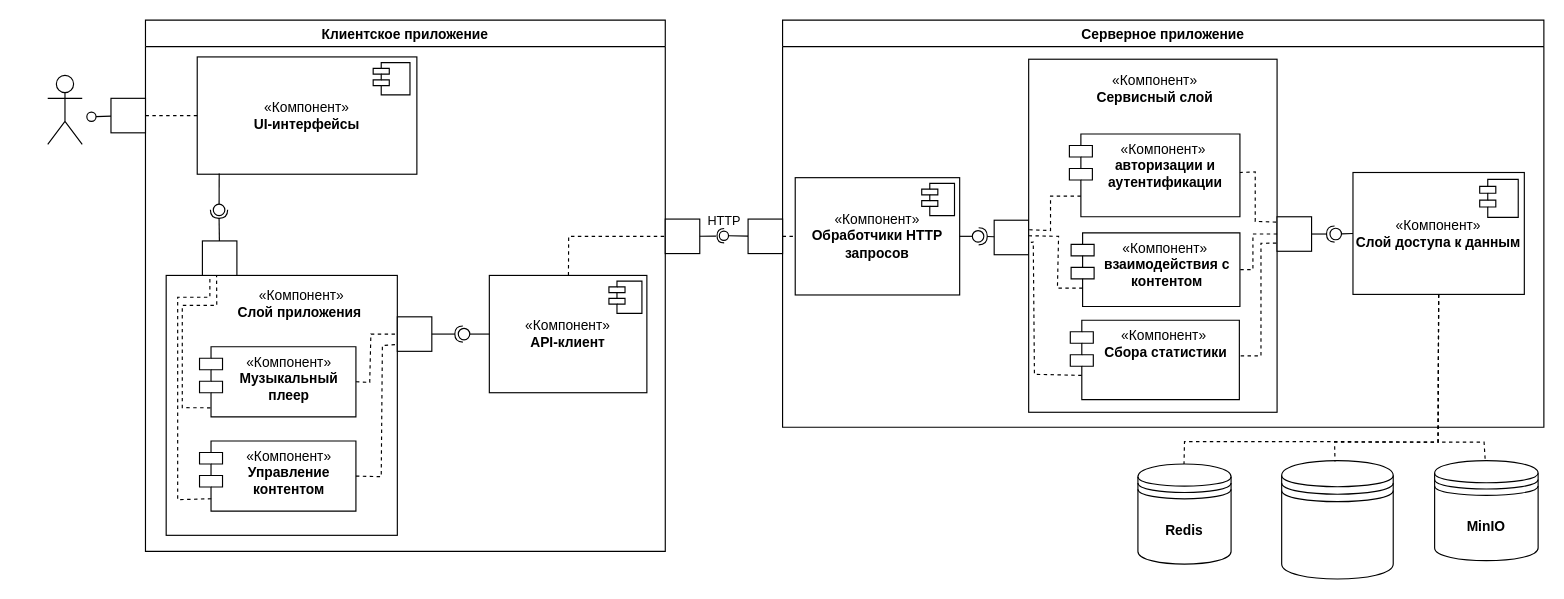
This 1564x599 diagram has some shape labels left out. Here are the shapes that lost their labels. From the top down, the centre of each, then its label:
point 64,109: Пользователь
point 1337,519: Postgres
